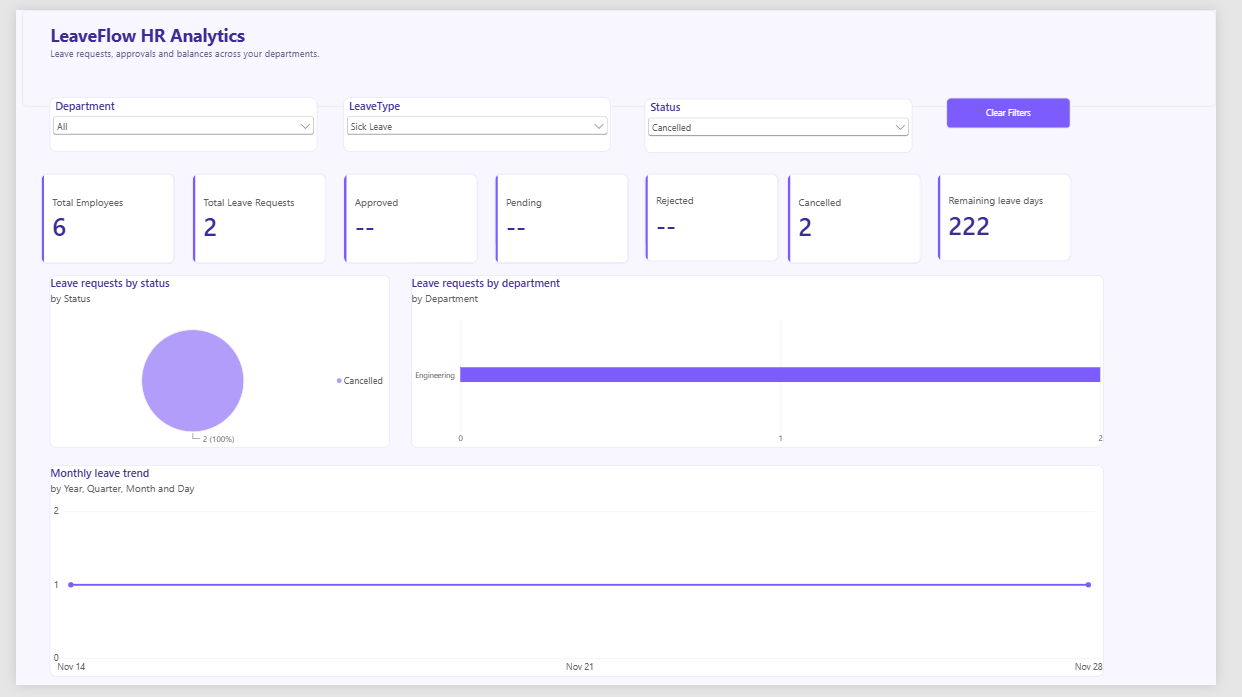

The page's visual inventory and layout, read from the dashboard file:
{"tool":"powerbi","page":{"name":"Page 1","canvas":[1920,1080],"ordinal":0},"visuals":[{"type":"textbox","box":[10,0,1910,154],"z":0},{"type":"cardVisual","fields":{"Data":["Count(Employees.EmployeeID)"]},"box":[40,262,214,144],"z":1000},{"type":"cardVisual","fields":{"Data":["Count(LeaveRequests.RequestID)"]},"box":[282,262,214,144],"z":2000},{"type":"cardVisual","fields":{"Data":["Count(LeaveRequests.RequestID)"]},"box":[524,262,214,144],"z":3000},{"type":"cardVisual","fields":{"Data":["Count(LeaveRequests.RequestID)"]},"box":[766,262,214,144],"z":4000},{"type":"cardVisual","fields":{"Data":["Count(LeaveRequests.RequestID)"]},"box":[1006,262,214,140],"z":5000},{"type":"cardVisual","fields":{"Data":["Sum(LeaveBalance.RemainingLeaves)"]},"box":[1474,262,214,140],"z":6000},{"type":"pieChart","fields":{"Category":["LeaveRequests.Status"],"Y":["Count(LeaveRequests.RequestID)"]},"box":[54,424,544,276],"z":7000},{"type":"clusteredBarChart","fields":{"Category":["Employees.Department"],"Y":["Count(LeaveRequests.RequestID)"]},"box":[632,424,1108,276],"z":8000},{"type":"lineChart","fields":{"Category":["LeaveRequests.TrendDate.Variation.Date Hierarchy.Year","LeaveRequests.TrendDate.Variation.Date Hierarchy.Quarter","LeaveRequests.TrendDate.Variation.Date Hierarchy.Month","LeaveRequests.TrendDate.Variation.Date Hierarchy.Day"],"Y":["Count(LeaveRequests.RequestID)"]},"box":[54,728,1686,338],"z":9000},{"type":"slicer","fields":{"Values":["Employees.Department"]},"box":[54,140,428,86],"z":10000},{"type":"slicer","fields":{"Values":["LeaveRequests.LeaveType"]},"box":[524,140,428,86],"z":11000},{"type":"slicer","fields":{"Values":["LeaveRequests.Status"]},"box":[1006,142,428,86],"z":12000},{"type":"actionButton","box":[1488,140,200,50],"z":13000},{"type":"cardVisual","fields":{"Data":["Count(LeaveRequests.RequestID)"]},"box":[1234,262,214,144],"z":13001}]}

Visuals, with their boxes in screenshot pixels (x1, y1, x2, y2), scaled from the page's 1920x1080 canvas onto the 1242x697 screenshot:
textbox: [6, 0, 1241, 99]
cardVisual - Count(Employees.EmployeeID): [26, 169, 164, 262]
cardVisual - Count(LeaveRequests.RequestID): [182, 169, 321, 262]
cardVisual - Count(LeaveRequests.RequestID): [339, 169, 477, 262]
cardVisual - Count(LeaveRequests.RequestID): [496, 169, 634, 262]
cardVisual - Count(LeaveRequests.RequestID): [651, 169, 789, 259]
cardVisual - Sum(LeaveBalance.RemainingLeaves): [953, 169, 1092, 259]
pieChart - LeaveRequests.Status x Count(LeaveRequests.RequestID): [35, 274, 387, 452]
clusteredBarChart - Employees.Department x Count(LeaveRequests.RequestID): [409, 274, 1126, 452]
lineChart - LeaveRequests.TrendDate.Variation.Date Hierarchy.Year x LeaveRequests.TrendDate.Variation.Date Hierarchy.Quarter: [35, 470, 1126, 688]
slicer - Employees.Department: [35, 90, 312, 146]
slicer - LeaveRequests.LeaveType: [339, 90, 616, 146]
slicer - LeaveRequests.Status: [651, 92, 928, 147]
actionButton: [963, 90, 1092, 123]
cardVisual - Count(LeaveRequests.RequestID): [798, 169, 937, 262]
